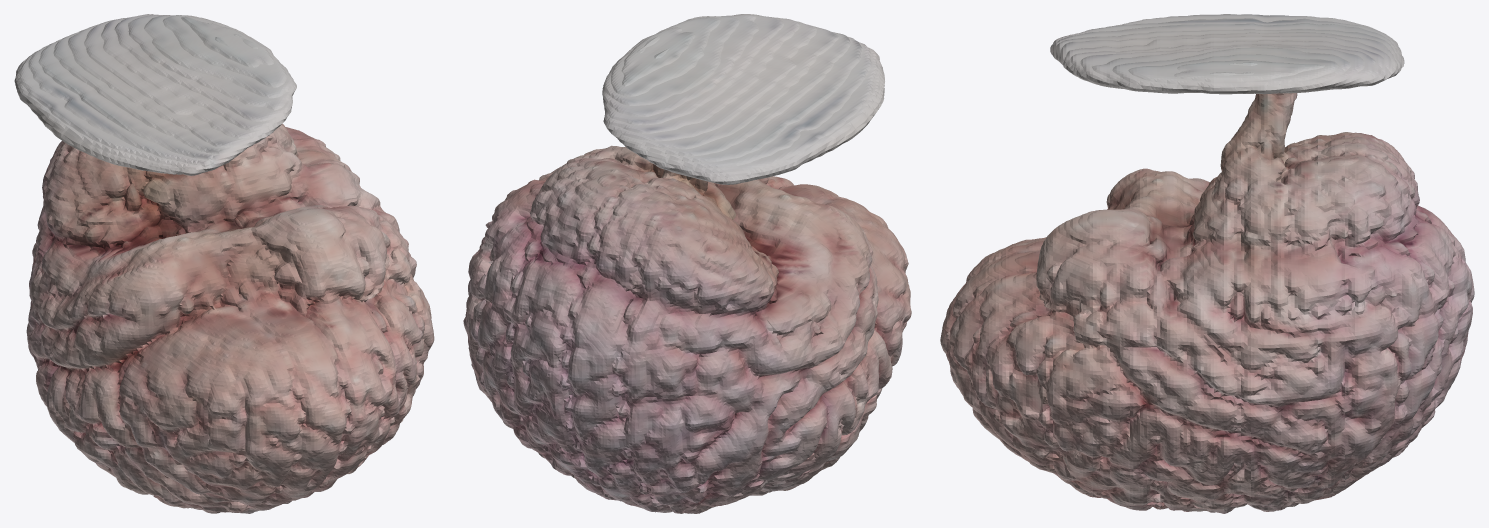
The model's file is brain.glb.
The picture shows the model from 3 angles, left to right: view 1: azimuth 30°, elevation 25°; view 2: azimuth 150°, elevation 25°; view 3: azimuth 270°, elevation 25°; orthographic projection. The views are drawn at different scales.
Size of the model in its own units: 0.8439 by 0.9989 by 1.09.
